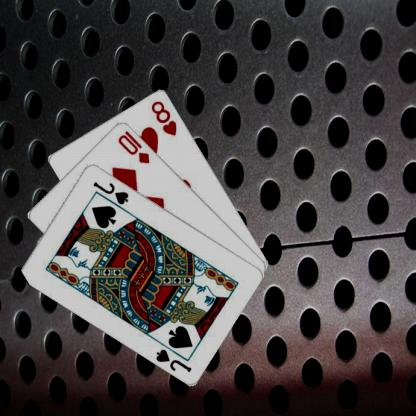10D: (117, 127, 152, 164)
8H: (150, 98, 180, 137)
JS: (92, 179, 132, 206), (155, 346, 195, 373)
